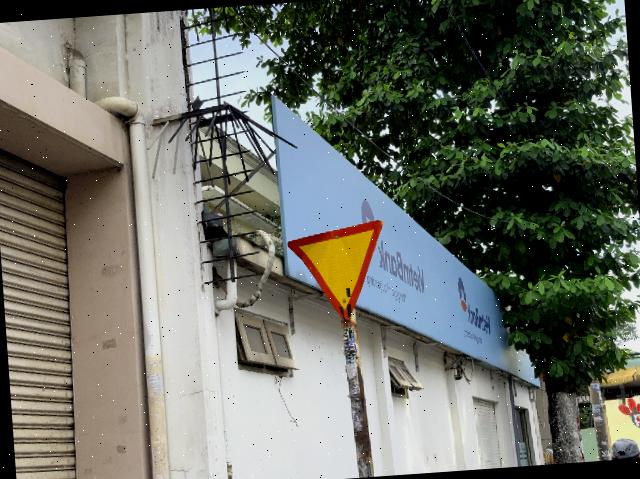giao-nhau-voi-duong-uu-tien: (285, 220, 389, 325)
